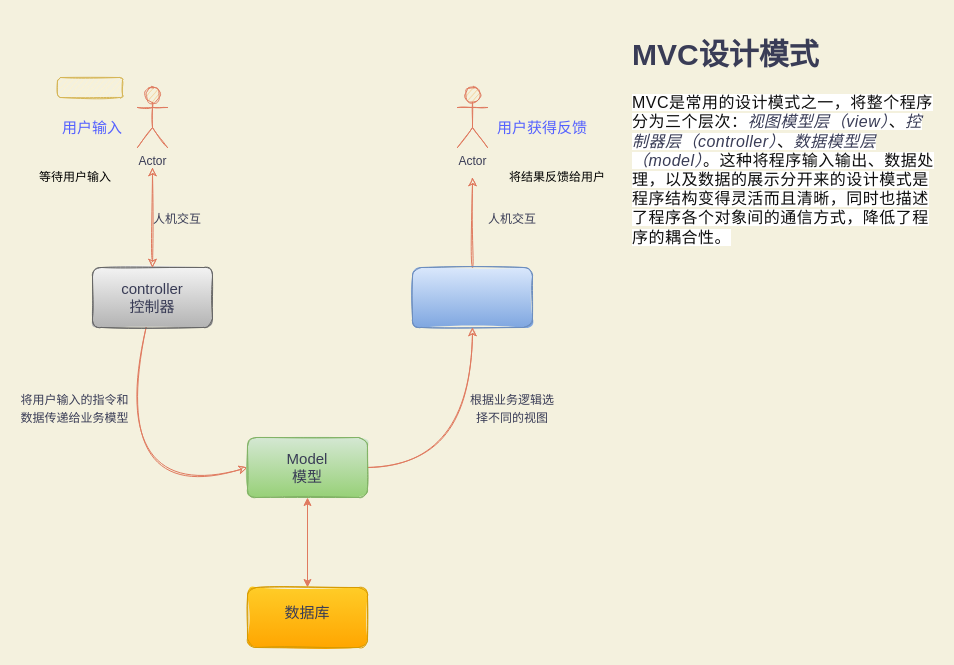
Image size: 954x665. Some labels were removed from this diagram. Here are the shapes that lost their labels. From the top down, the centre of each, then its label:
pixel 89 87: 起始点
pixel 472 297: View 视图
